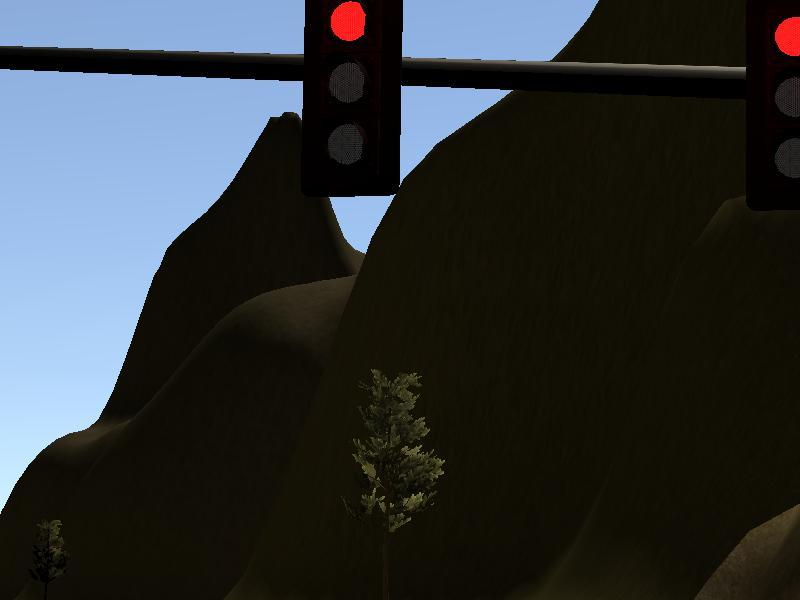Red: (309, 1, 394, 188), (751, 1, 800, 188)
